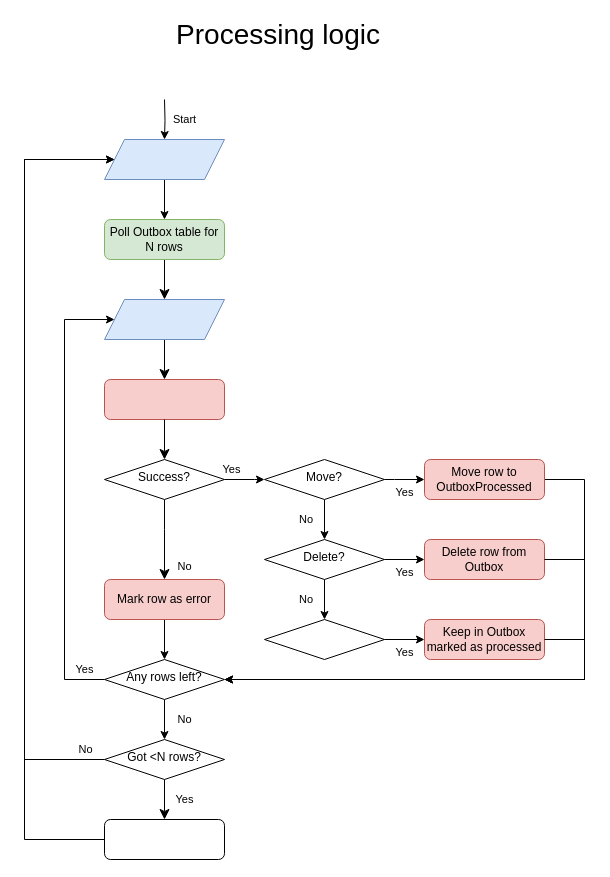
Some shapes in this 610 by 877 pixel diagram are drawn without their labels. The box of each missing label's shape, as (x1, y1, x2, y2) in pixels:
Default: (264, 618, 384, 660)
Row loop: (104, 298, 224, 340)
Service loop: (104, 138, 224, 180)
Sleep: (104, 818, 224, 860)
Try to publish: (104, 378, 224, 420)
